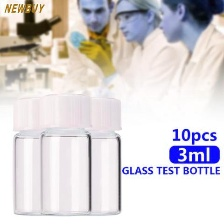bottle: (37, 89, 91, 217), (83, 95, 126, 219), (8, 92, 40, 218)
